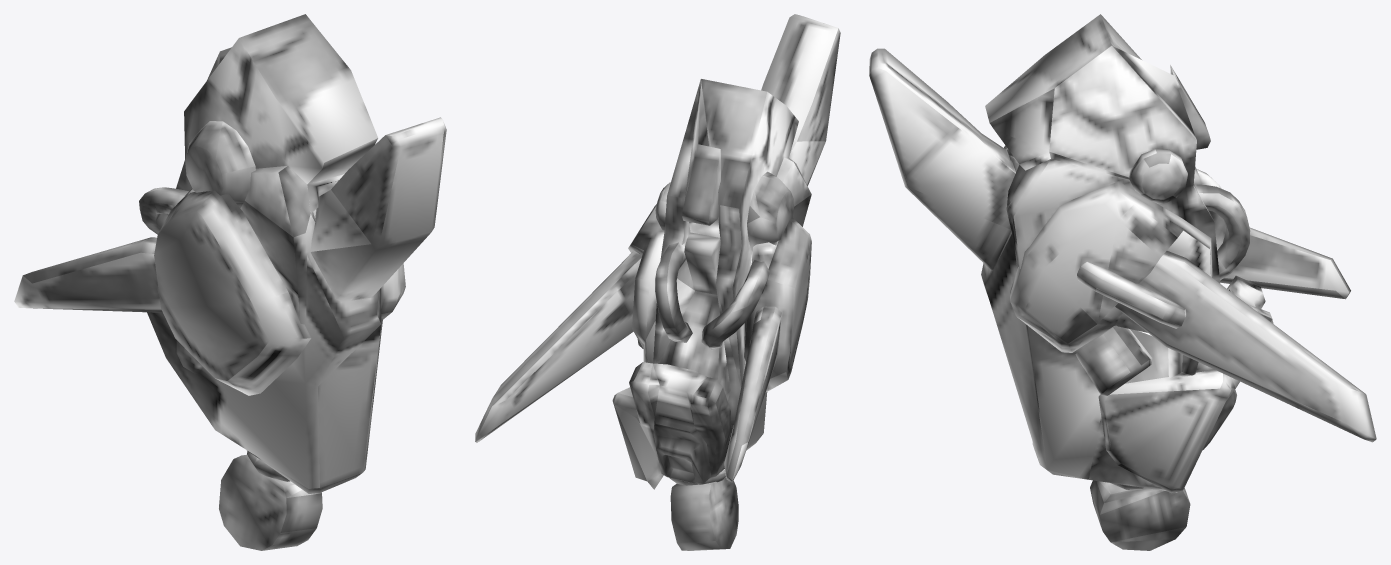
The model's file is l_shin.glb.
3 renders of one model, left to right at view 1: azimuth 30°, elevation 25°; view 2: azimuth 150°, elevation 25°; view 3: azimuth 270°, elevation 25°, orthographic. The views are drawn at different scales.
Visible parts, largest first — view 1: l_shin; view 2: l_shin; view 3: l_shin.
Boxes of the visible parts, x1,y1,x2,y2 form: l_shin: [14, 14, 446, 550]; l_shin: [475, 14, 840, 550]; l_shin: [869, 14, 1376, 550].
Size of the model in its own units: 0.742 by 1.3 by 1.17.
3 materials, 3 textured.
